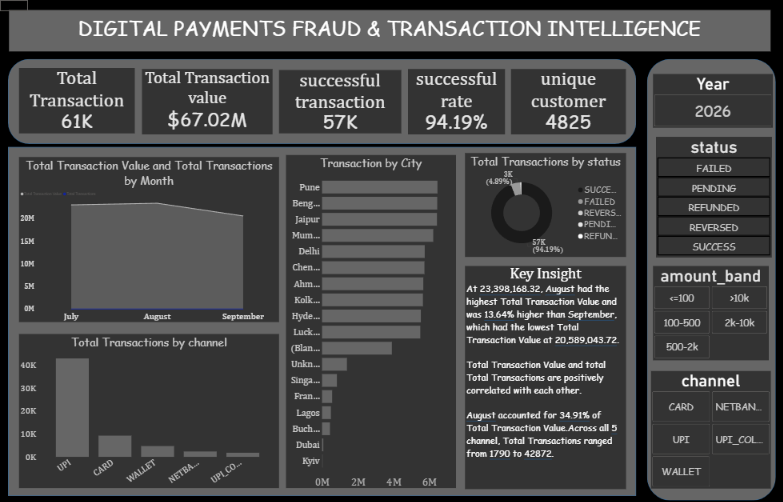

The dashboard page shown, as its layout file describes it:
{"tool":"powerbi","page":{"name":"Transaction Overview","canvas":[2800,1800],"ordinal":0},"visuals":[{"type":"shape","box":[30,210,2243.3,303.3],"z":0},{"type":"card","title":"Total Transaction","fields":{"Values":["digital_payments_analytics payment_transactions.Total Transactions"]},"box":[66.7,243.3,413.3,233.3],"z":1000},{"type":"card","title":"Total Transaction value","fields":{"Values":["digital_payments_analytics payment_transactions.Total Transaction Value"]},"box":[506.7,246.7,466.7,233.3],"z":2000},{"type":"card","title":"successful transaction","fields":{"Values":["digital_payments_analytics payment_transactions.Successful Transactions"]},"box":[996.7,250,436.7,226.7],"z":3000},{"type":"card","title":"successful  rate ","fields":{"Values":["digital_payments_analytics payment_transactions.Success Rate"]},"box":[1456.7,246.7,346.7,233.3],"z":4000},{"type":"card","title":"unique customer ","fields":{"Values":["digital_payments_analytics payment_transactions.Unique Customers"]},"box":[1826.7,246.7,410,233.3],"z":5000},{"type":"shape","box":[30,526.7,2243.3,1246.7],"z":6000},{"type":"columnChart","fields":{"Category":["digital_payments_analytics payment_transactions.channel"],"Y":["digital_payments_analytics payment_transactions.Total Transactions"]},"box":[66.7,1193.3,733.3,550],"z":7000},{"type":"areaChart","fields":{"Category":["digital_payments_analytics payment_transactions.date.Variation.Date Hierarchy.Month"],"Y":["digital_payments_analytics payment_transactions.Total Transaction Value","digital_payments_analytics payment_transactions.Total Transactions"]},"box":[66.7,560,1500,590],"z":8000},{"type":"clusteredBarChart","title":"Transaction by City","fields":{"Category":["digital_payments_analytics payment_transactions.ip_city"],"Y":["digital_payments_analytics payment_transactions.Total Transaction Value"]},"box":[1603.3,553.3,633.3,1190],"z":9000},{"type":"donutChart","fields":{"Category":["digital_payments_analytics payment_transactions.status"],"Y":["digital_payments_analytics payment_transactions.Total Transactions"]},"box":[816.7,1193.3,750,550],"z":10000},{"type":"shape","box":[2310,210,460,1576.7],"z":11000},{"type":"advancedSlicerVisual","fields":{"Values":["digital_payments_analytics payment_transactions.amount_band"]},"box":[2333.3,950,413.3,336.7],"z":12000},{"type":"advancedSlicerVisual","fields":{"Values":["digital_payments_analytics payment_transactions.status"]},"box":[2343.3,490,413.3,430],"z":13000},{"type":"advancedSlicerVisual","fields":{"Values":["digital_payments_analytics payment_transactions.date.Variation.Date Hierarchy.Year"]},"box":[2332,264,428,192],"z":14000},{"type":"advancedSlicerVisual","fields":{"Values":["digital_payments_analytics payment_transactions.channel"]},"box":[2324,1324,428,420],"z":15000},{"type":"textbox","box":[32,36,2720,148],"z":19000}]}

Visuals, with their boxes in screenshot pixels (x1, y1, x2, y2), scaled from the page's 2800x1800 canvas onto the 783x502 screenshot:
shape: locate(8, 59, 636, 143)
"Total Transaction" card: locate(19, 68, 134, 133)
"Total Transaction value" card: locate(142, 69, 272, 134)
"successful transaction" card: locate(279, 70, 401, 133)
"successful  rate " card: locate(407, 69, 504, 134)
"unique customer " card: locate(511, 69, 625, 134)
shape: locate(8, 147, 636, 495)
columnChart - digital_payments_analytics payment_transactions.channel x digital_payments_analytics payment_transactions.Total Transactions: locate(19, 333, 224, 486)
areaChart - digital_payments_analytics payment_transactions.date.Variation.Date Hierarchy.Month x digital_payments_analytics payment_transactions.Total Transaction Value: locate(19, 156, 438, 321)
"Transaction by City" clusteredBarChart: locate(448, 154, 625, 486)
donutChart - digital_payments_analytics payment_transactions.status x digital_payments_analytics payment_transactions.Total Transactions: locate(228, 333, 438, 486)
shape: locate(646, 59, 775, 498)
advancedSlicerVisual - digital_payments_analytics payment_transactions.amount_band: locate(652, 265, 768, 359)
advancedSlicerVisual - digital_payments_analytics payment_transactions.status: locate(655, 137, 771, 257)
advancedSlicerVisual - digital_payments_analytics payment_transactions.date.Variation.Date Hierarchy.Year: locate(652, 74, 772, 127)
advancedSlicerVisual - digital_payments_analytics payment_transactions.channel: locate(650, 369, 770, 486)
textbox: locate(9, 10, 770, 51)
